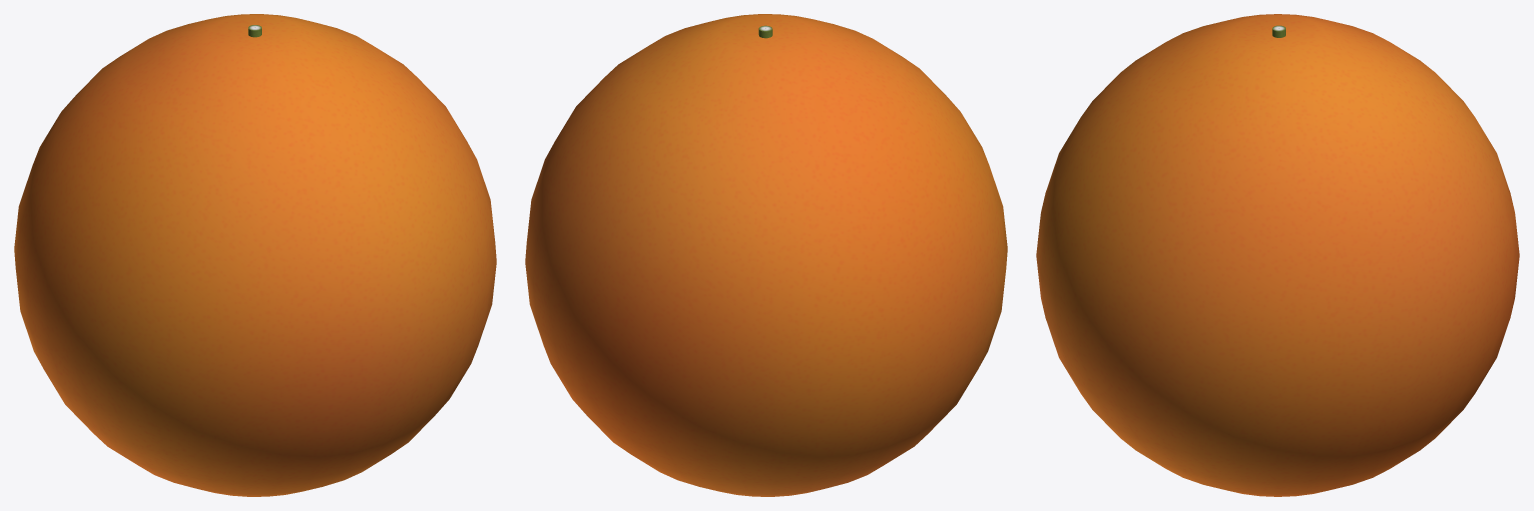
File: Orange.fbx
3 views of the same model, side by side, from view 1: azimuth 30°, elevation 25°; view 2: azimuth 150°, elevation 25°; view 3: azimuth 270°, elevation 25° (orthographic).
Visible parts, largest first — view 1: Orange; view 2: Orange; view 3: Orange.
Boxes of the visible parts, x1,y1,x2,y2 form: Orange: (14,14,496,496); Orange: (525,14,1007,496); Orange: (1036,14,1519,496).
Size of the model in its own units: 0.0896 by 0.0904 by 0.0896.
